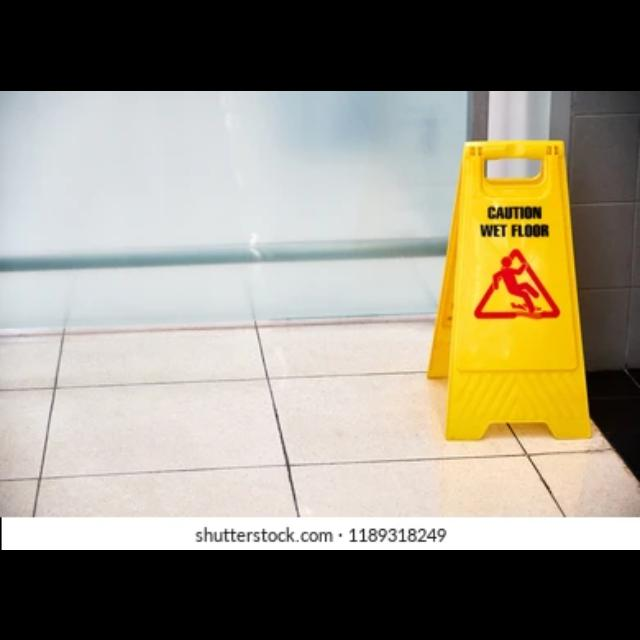tron truot: (427, 141, 589, 438)
